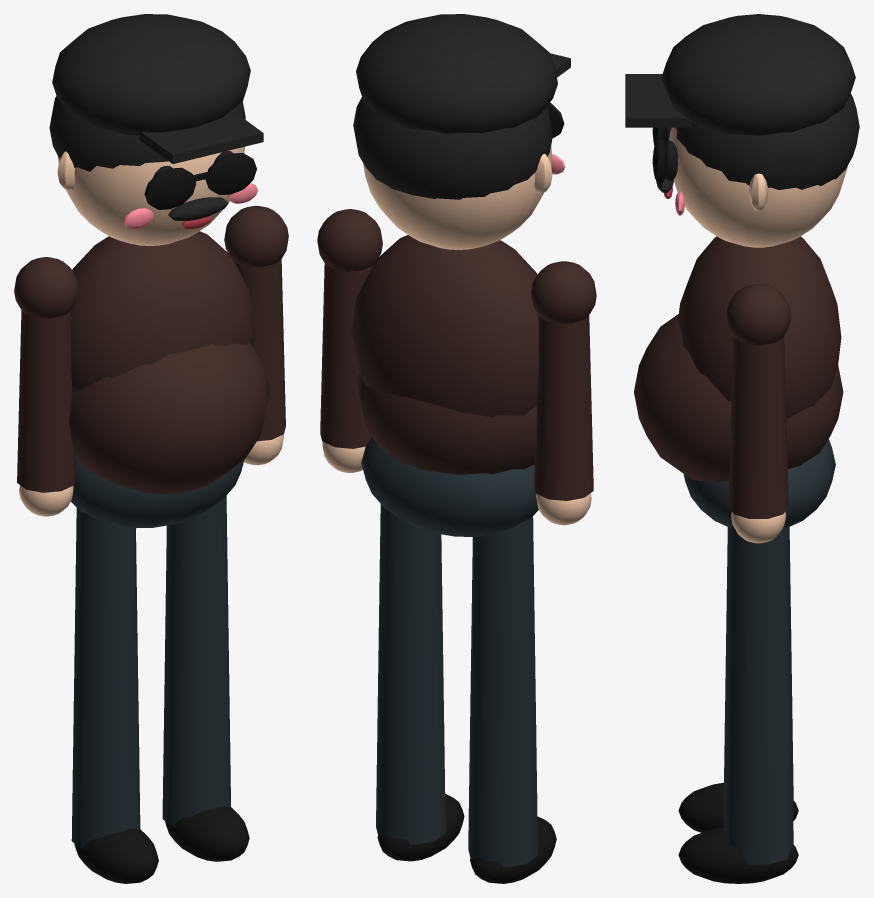
The model's file is town_mw_driver.glb.
The picture shows the model from 3 angles, left to right: view 1: azimuth 30°, elevation 25°; view 2: azimuth 150°, elevation 25°; view 3: azimuth 270°, elevation 25°; orthographic projection.
Parts seen in each view (by area): view 1: Body.001, Leg_R, Leg_L, Arm_R, Arm_L; view 2: Body.001, Leg_R, Leg_L, Arm_R, Arm_L; view 3: Body.001, Leg_L, Arm_L, Leg_R.
Part boxes in pixels (x1,y1,x2,y2): Body.001: (49,14,269,528); Leg_R: (71,508,158,883); Leg_L: (162,496,249,861); Arm_R: (14,257,78,516); Arm_L: (224,205,288,465); Body.001: (351,14,570,536); Leg_R: (468,516,556,883); Leg_L: (376,504,464,861); Arm_R: (531,261,596,525); Arm_L: (317,209,382,472); Body.001: (625,14,859,527); Leg_L: (678,526,798,883); Arm_L: (726,283,791,543); Leg_R: (678,527,798,832).
Bounding box in the file's own units: 0.614 × 1.82 × 0.4674.
